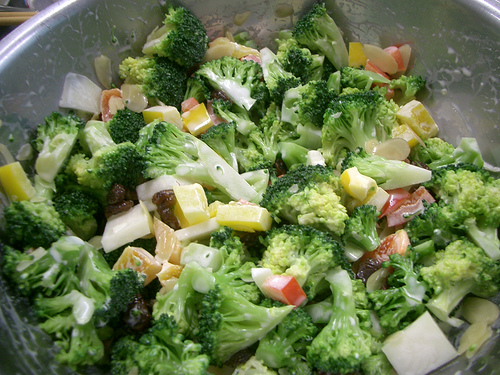broccoli: (306, 266, 373, 374)
